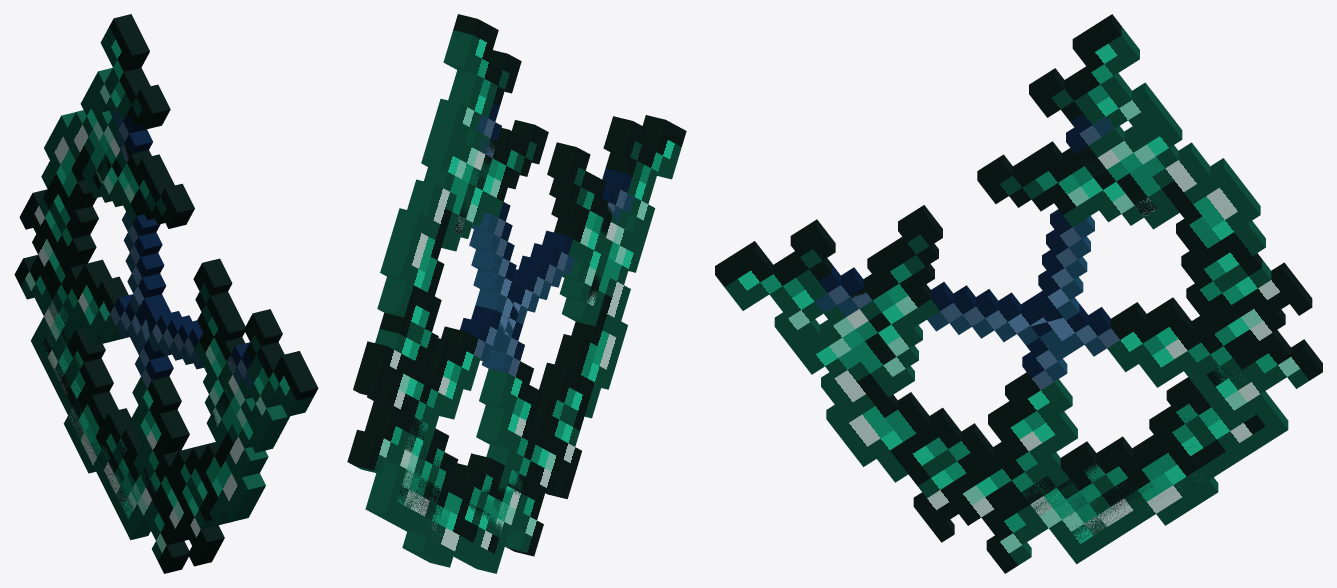
File: neptunium_greathammer.glb
The picture shows the model from 3 angles, left to right: view 1: azimuth 30°, elevation 25°; view 2: azimuth 150°, elevation 25°; view 3: azimuth 270°, elevation 25°; orthographic projection. The views are drawn at different scales.
Parts seen in each view (by area): view 1: main__Tool_R, off__Tool_L; view 2: main__Tool_R, off__Tool_L; view 3: main__Tool_R, off__Tool_L.
Part boxes in pixels (box(x1,y1,x2,y2)): main__Tool_R: box(14, 88, 318, 540); off__Tool_L: box(31, 14, 281, 573); main__Tool_R: box(347, 115, 686, 573); off__Tool_L: box(365, 14, 645, 573); main__Tool_R: box(715, 107, 1322, 564); off__Tool_L: box(793, 14, 1288, 573).
Size of the model in its own units: 0.0813 by 2.26 by 2.26.
1 material, 1 textured.
